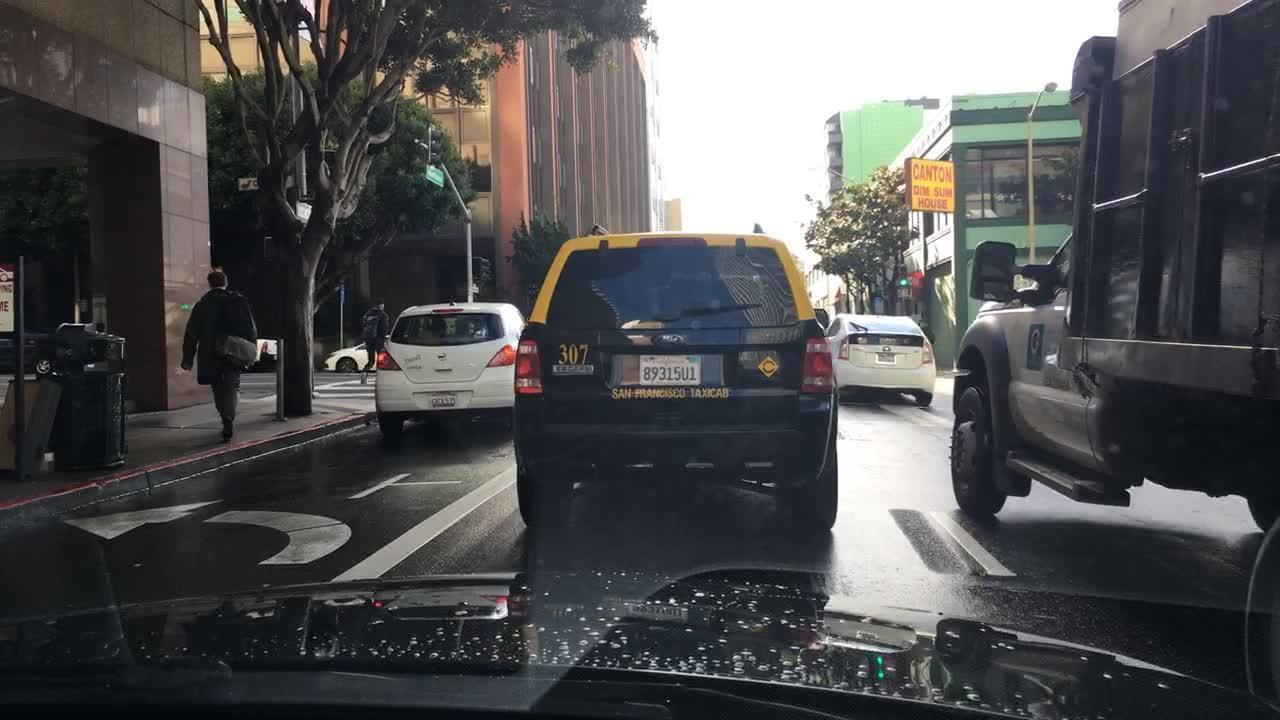ford: (649, 331, 688, 353)
